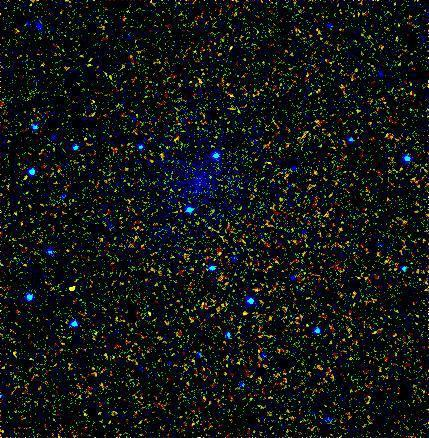star: (57, 274, 87, 304)
